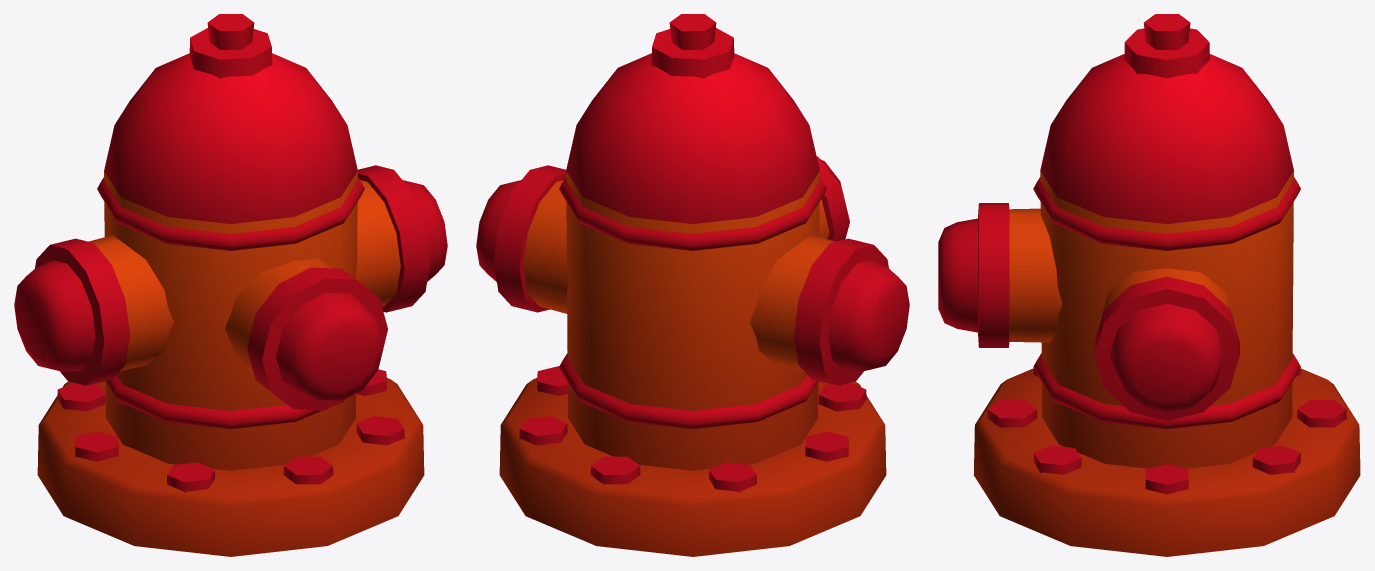
The model's file is Fire_Hydrant_01.fbx.
3 views of the same model, side by side, from view 1: azimuth 30°, elevation 25°; view 2: azimuth 150°, elevation 25°; view 3: azimuth 270°, elevation 25° (orthographic).
Visible parts, largest first — view 1: Fire_Hydrant_01; view 2: Fire_Hydrant_01; view 3: Fire_Hydrant_01.
Boxes of the visible parts, left/top/right/bottom form: Fire_Hydrant_01: left=14, top=14, right=447, bottom=556; Fire_Hydrant_01: left=476, top=14, right=909, bottom=556; Fire_Hydrant_01: left=938, top=14, right=1360, bottom=556.
Size of the model in its own units: 81.8 by 89.34 by 75.48.
